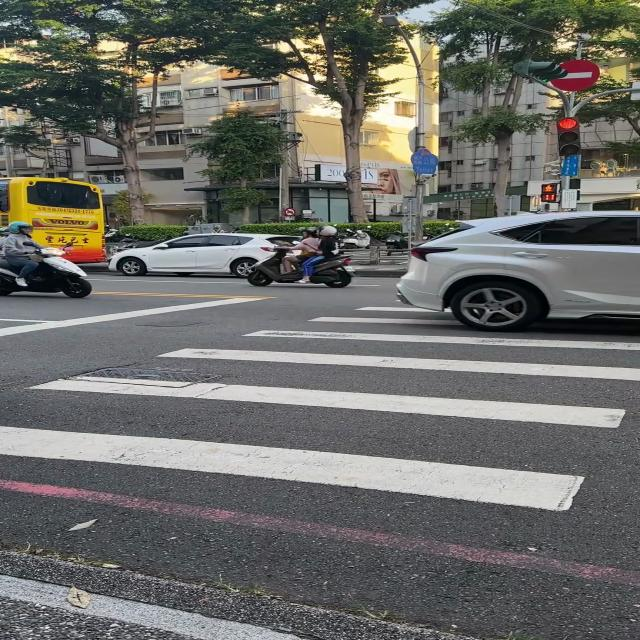bus: (0, 178, 106, 261)
car: (397, 211, 640, 331), (108, 234, 300, 278)
crosswalk: (0, 303, 640, 515)
motocycle: (0, 248, 90, 298), (247, 249, 302, 286), (311, 255, 355, 288)
